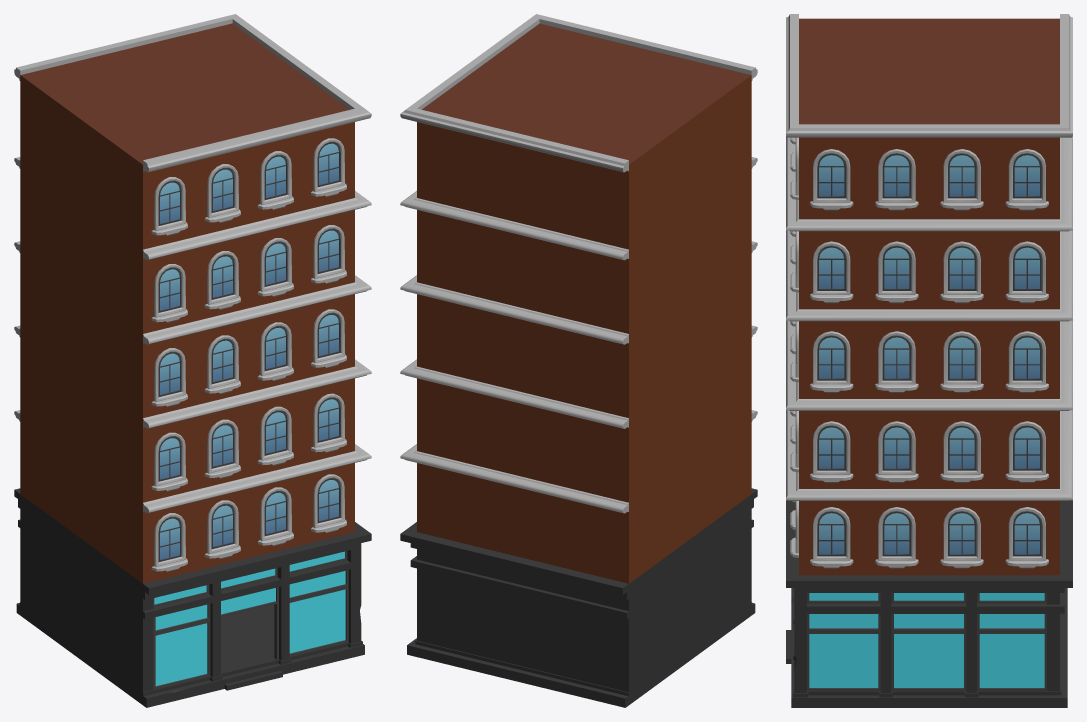
The model's file is SM_Buildings_House_05_V4.fbx.
3 renders of one model, left to right at view 1: azimuth 30°, elevation 25°; view 2: azimuth 150°, elevation 25°; view 3: azimuth 270°, elevation 25°, orthographic. The views are drawn at different scales.
Visible parts, largest first — view 1: SM_Buildings_House_05_V4; view 2: SM_Buildings_House_05_V4; view 3: SM_Buildings_House_05_V4.
Boxes of the visible parts, x1,y1,x2,y2 form: SM_Buildings_House_05_V4: (14, 14, 371, 707); SM_Buildings_House_05_V4: (400, 14, 757, 707); SM_Buildings_House_05_V4: (786, 14, 1072, 707).
Bounding box in the file's own units: 10.5 × 24.55 × 11.
